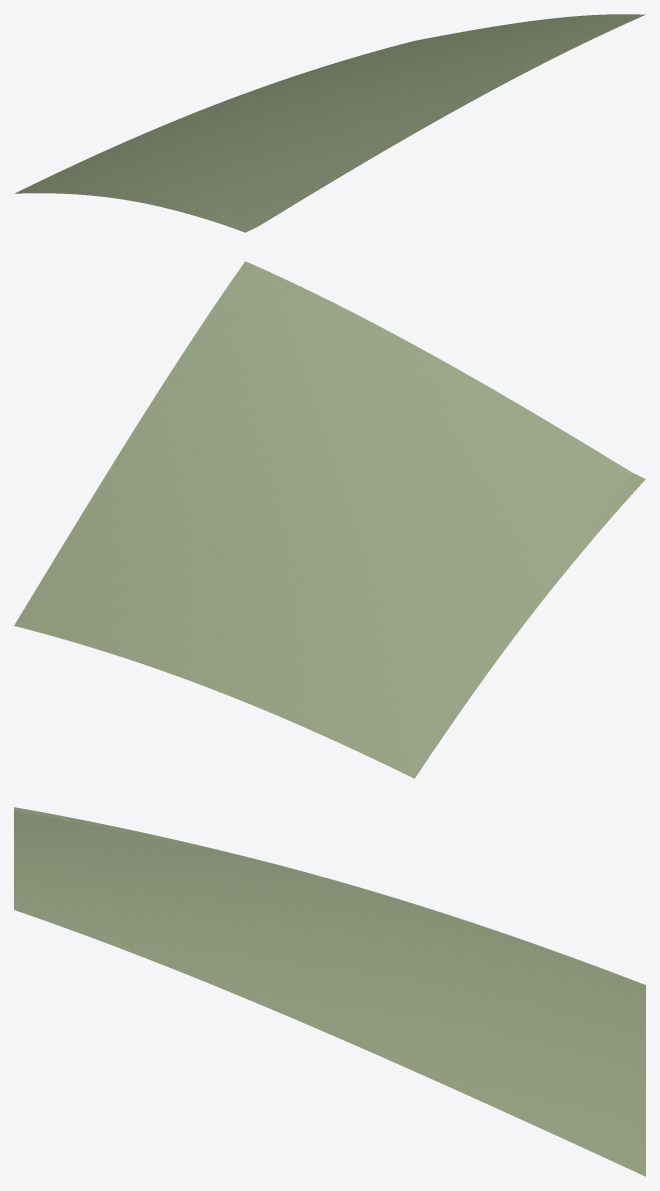
Rendered from alpine-13-8.glb.
The picture shows the model from 3 angles, top to bottom: view 1: azimuth 30°, elevation 25°; view 2: azimuth 150°, elevation 25°; view 3: azimuth 270°, elevation 25°; orthographic projection. The views are drawn at different scales.
Parts seen in each view (by area): view 1: alpine-13-8; view 2: alpine-13-8; view 3: alpine-13-8.
Boxes of the visible parts, x1=… form: alpine-13-8: x1=15, y1=14, x2=645, y2=232; alpine-13-8: x1=14, y1=261, x2=645, y2=778; alpine-13-8: x1=14, y1=807, x2=645, y2=1176.
Size of the model in its own units: 256 by 153 by 256.
